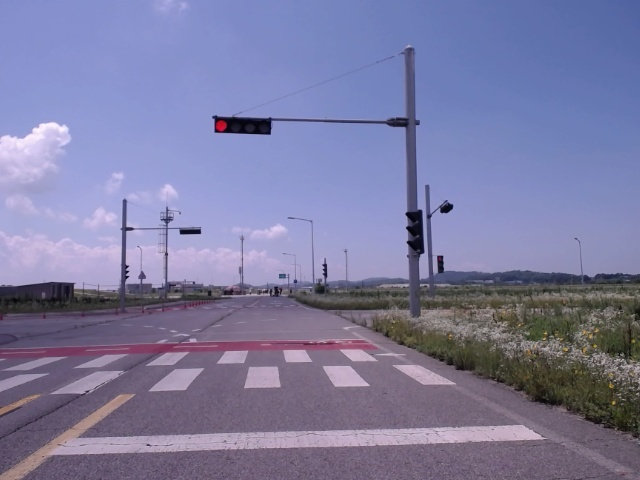red_4: (215, 117, 272, 135)
